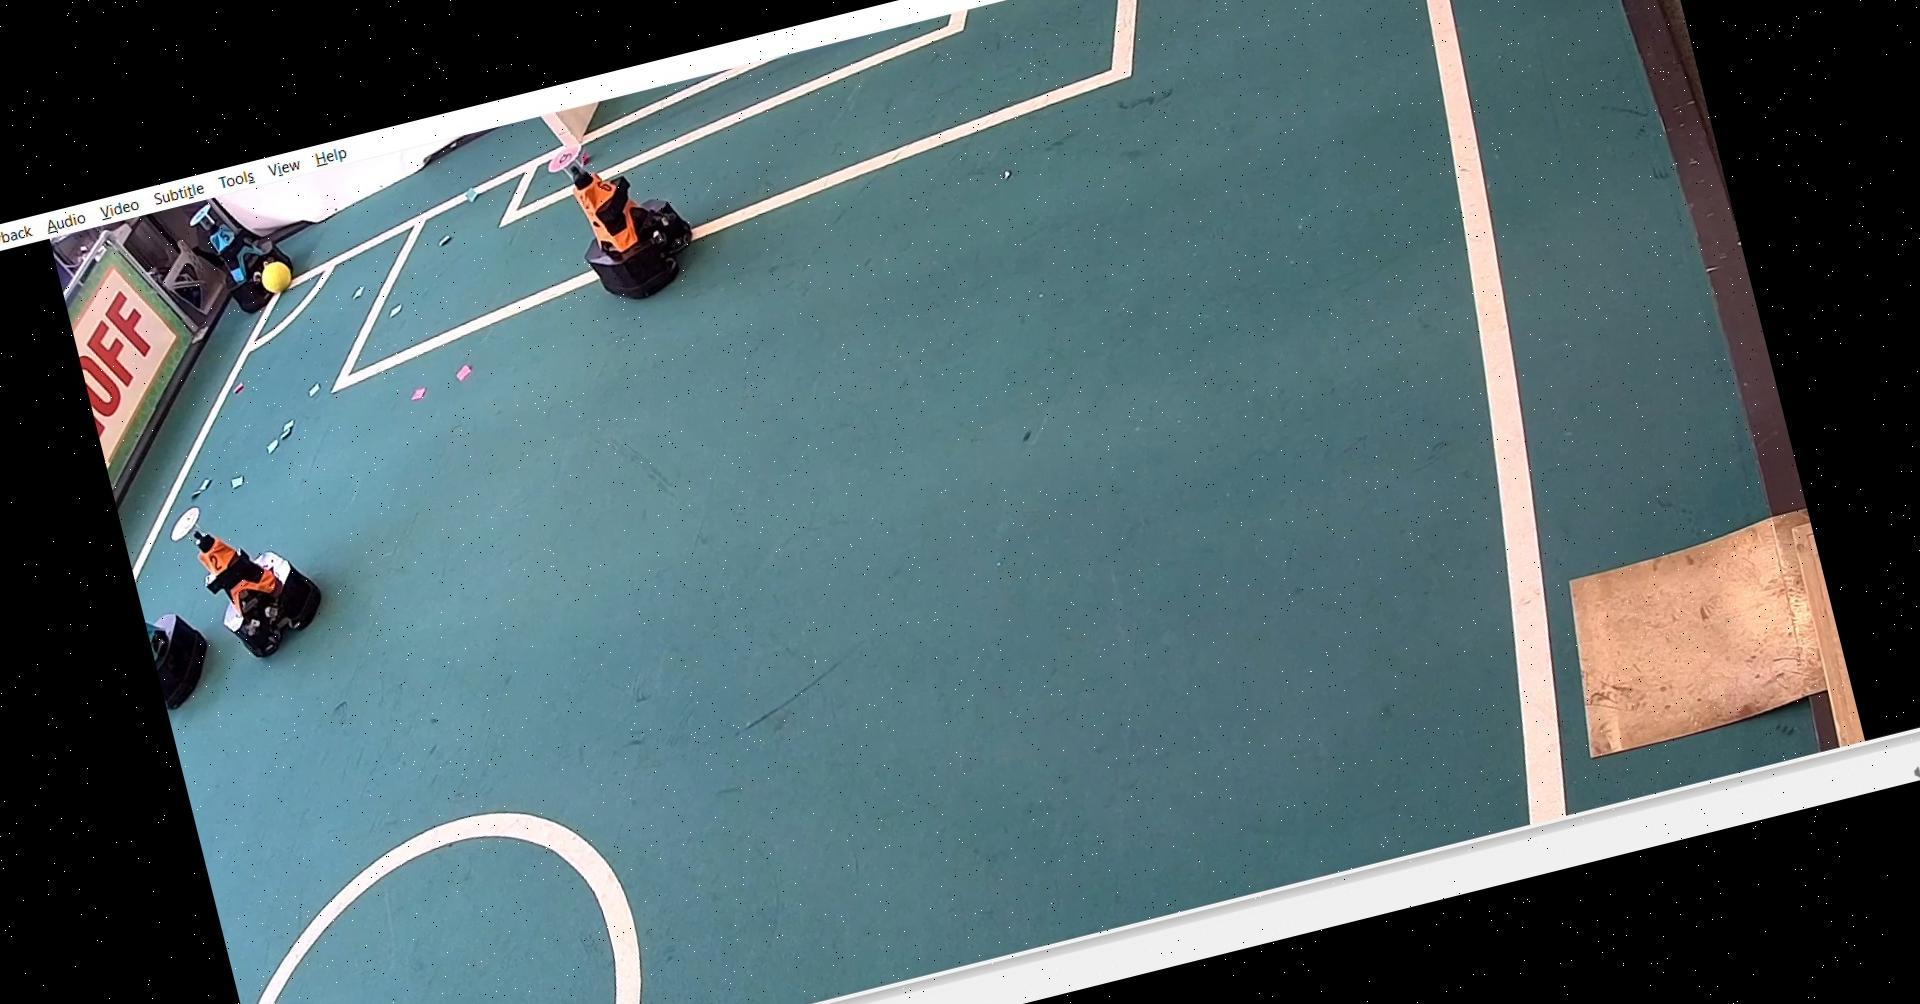Ball: (248, 250, 297, 300)
Team_Blue: (185, 189, 302, 320)
Team_Red: (164, 480, 339, 664), (545, 121, 696, 306)
